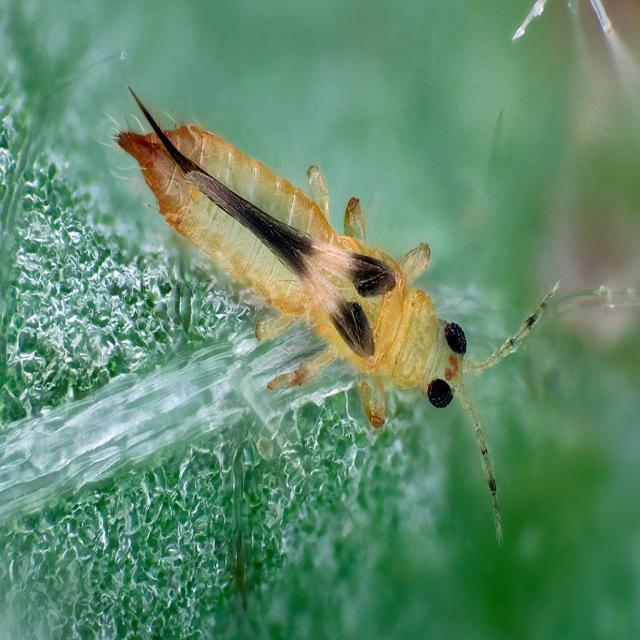Thrip-Adult-: (101, 64, 564, 540)
